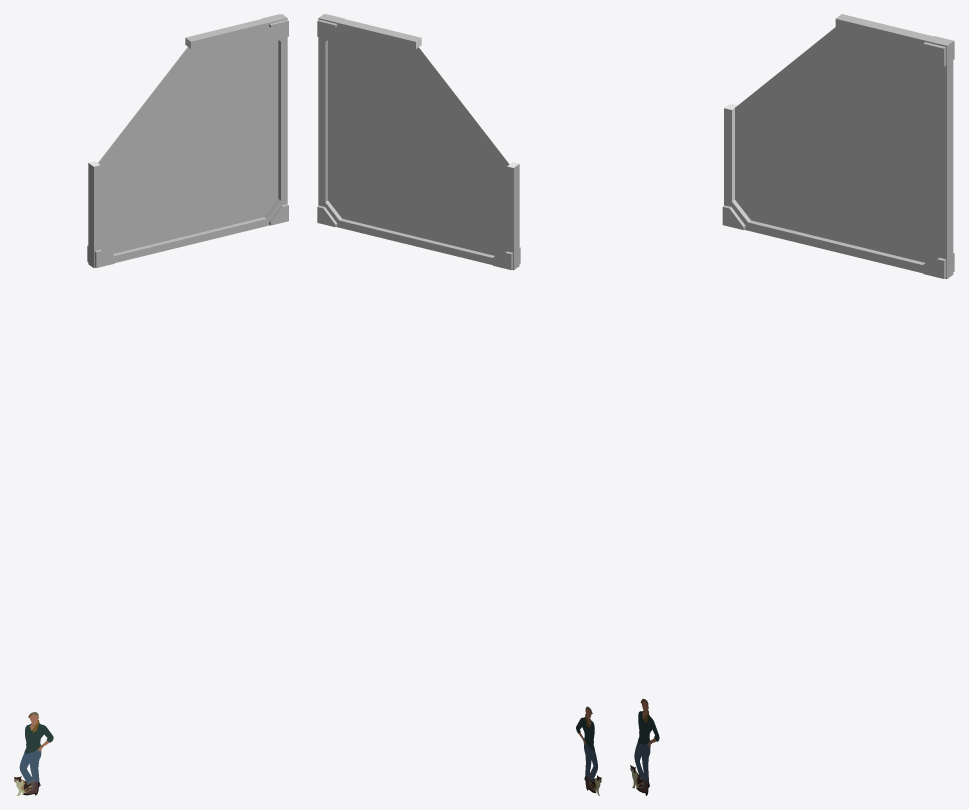
File: glasscockpit.dae
3 renders of one model, left to right at view 1: azimuth 30°, elevation 25°; view 2: azimuth 150°, elevation 25°; view 3: azimuth 330°, elevation 25°, orthographic. The views are drawn at different scales.
Visible parts, largest first — view 1: skp5EC5 (×2), Heather (×2); view 2: skp5EC5 (×2); view 3: skp5EC5 (×2).
Part boxes in pixels (x1,y1,x2,y2): skp5EC5 (×2): (88, 14, 287, 268); Heather (×2): (19, 723, 53, 782); skp5EC5 (×2): (318, 14, 519, 270); skp5EC5 (×2): (724, 14, 953, 278).
Bounding box in the file's own units: 223 × 21.57 × 552.
